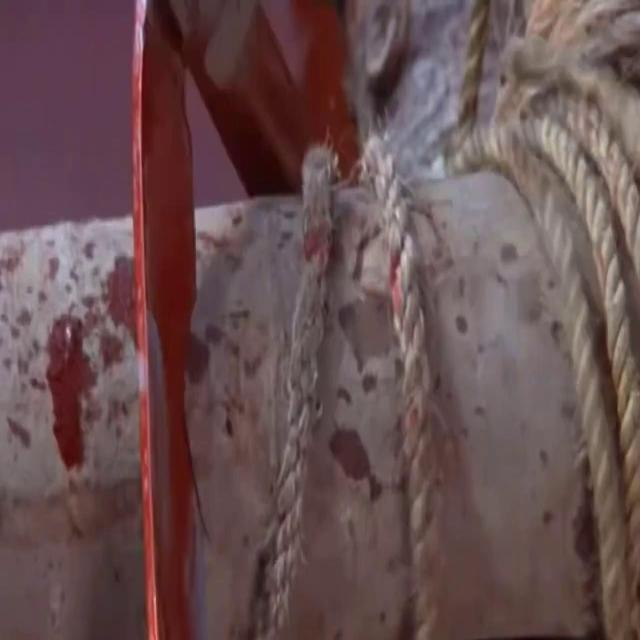flood: (137, 47, 188, 640), (50, 312, 86, 470)
